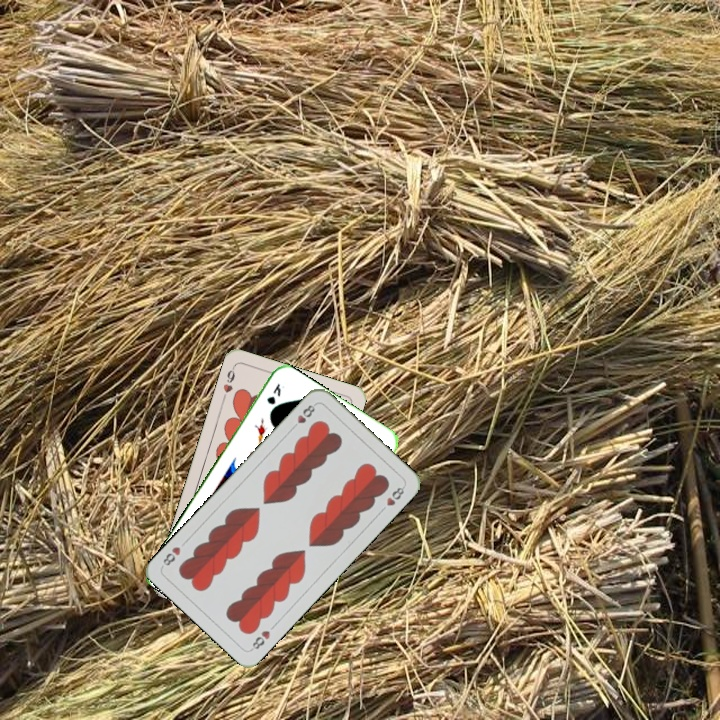GK: (262, 380, 283, 407)
H8: (287, 400, 319, 433), (247, 626, 273, 653)
H9: (219, 363, 238, 402)
